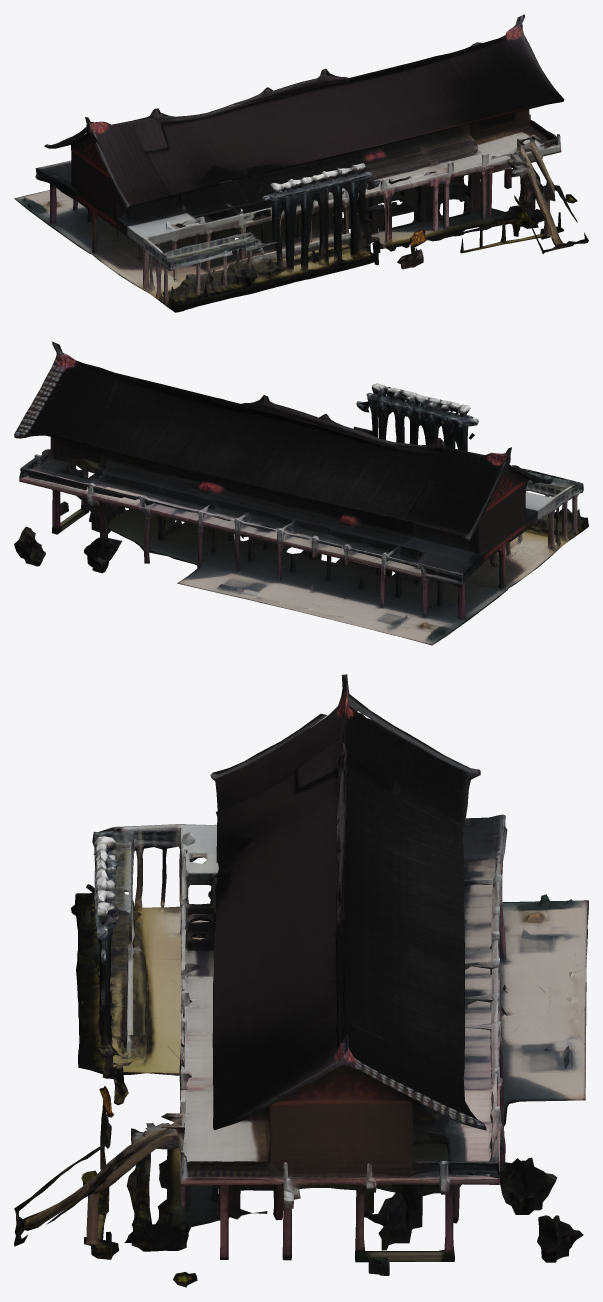
Rendered from kalimantan-barat.glb.
The picture shows the model from 3 angles, top to bottom: view 1: azimuth 30°, elevation 25°; view 2: azimuth 150°, elevation 25°; view 3: azimuth 270°, elevation 25°; orthographic projection. The views are drawn at different scales.
Visible parts, largest first — view 1: world; view 2: world; view 3: world.
Boxes of the visible parts, box(x1,y1,x2,y2) form: world: box(14, 14, 588, 312); world: box(14, 341, 588, 645); world: box(14, 674, 588, 1287).
Bounding box in the file's own units: 0.6981 × 0.2381 × 0.4744.
Materials: 1 (1 with a texture image).
